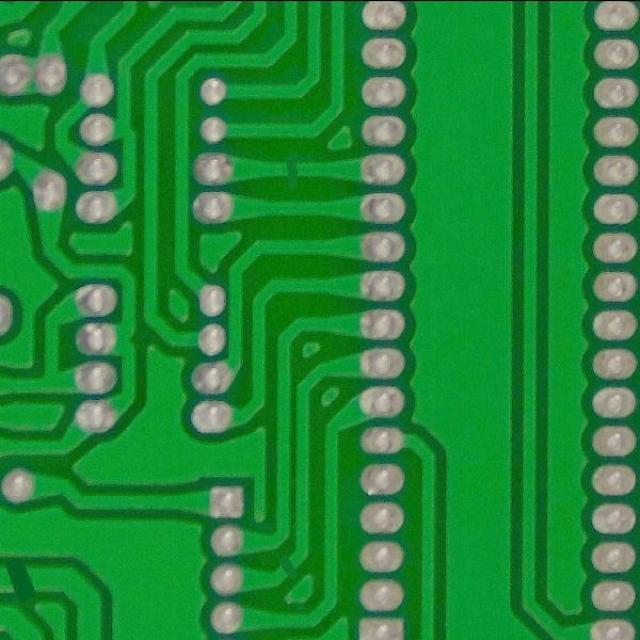open_circuit: (1, 556, 40, 597), (277, 152, 305, 186), (277, 550, 303, 586)
